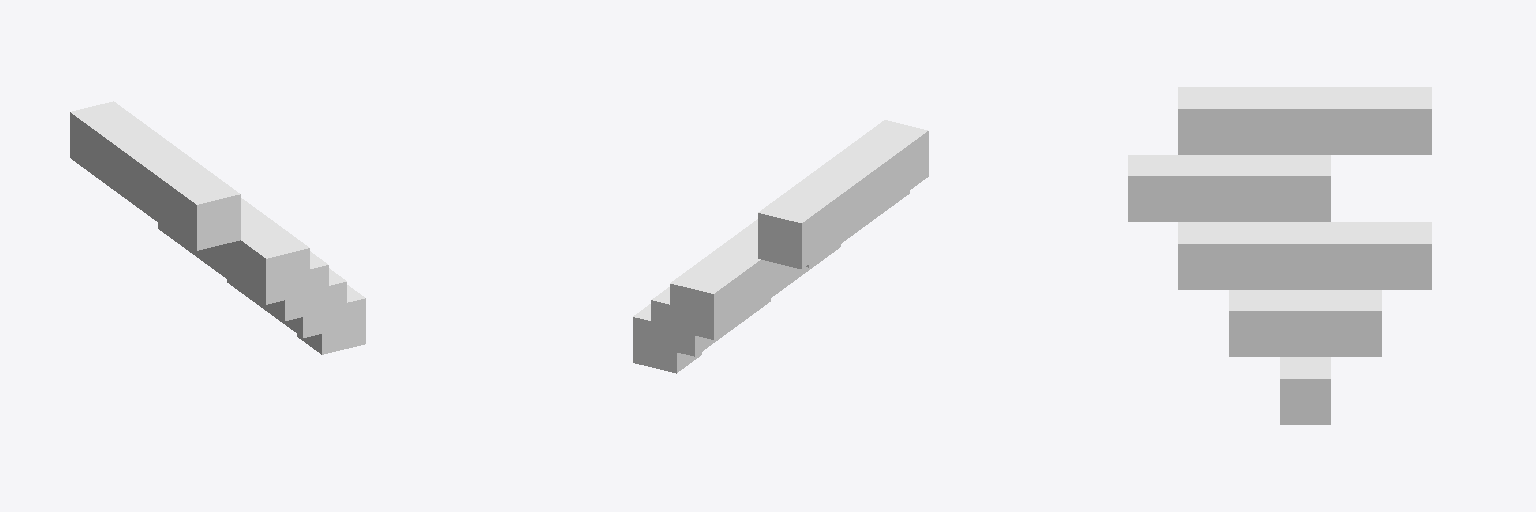
The model's file is YellowHouseParts-96.obj.
3 views of the same model, side by side, from view 1: azimuth 30°, elevation 25°; view 2: azimuth 150°, elevation 25°; view 3: azimuth 270°, elevation 25° (orthographic).
Parts seen in each view (by area): view 1: object 1; view 2: object 1; view 3: object 1.
Part boxes in pixels (left/top/right/bottom): object 1: left=70, top=101, right=365, bottom=354; object 1: left=633, top=120, right=928, bottom=373; object 1: left=1128, top=87, right=1431, bottom=424.
Bounding box in the file's own units: 0.5 × 0.5 × 0.6.